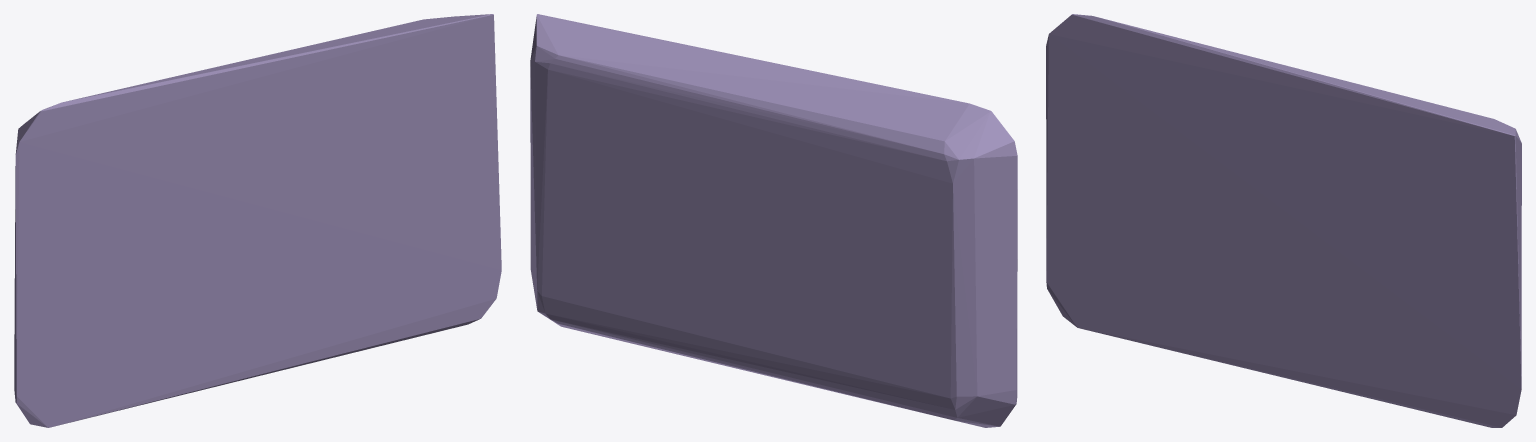
The model's file is container_system_sterilising_b05.glb.
3 views of the same model, side by side, from view 1: azimuth 30°, elevation 25°; view 2: azimuth 150°, elevation 25°; view 3: azimuth 330°, elevation 25° (orthographic). The views are drawn at different scales.
Visible parts, largest first — view 1: geometry_0; view 2: geometry_0; view 3: geometry_0.
Boxes of the visible parts, x1,y1,x2,y2 form: geometry_0: (14, 14, 501, 427); geometry_0: (530, 14, 1017, 427); geometry_0: (1046, 14, 1521, 427).
Size of the model in its own units: 0.479 by 0.3029 by 0.0466.
